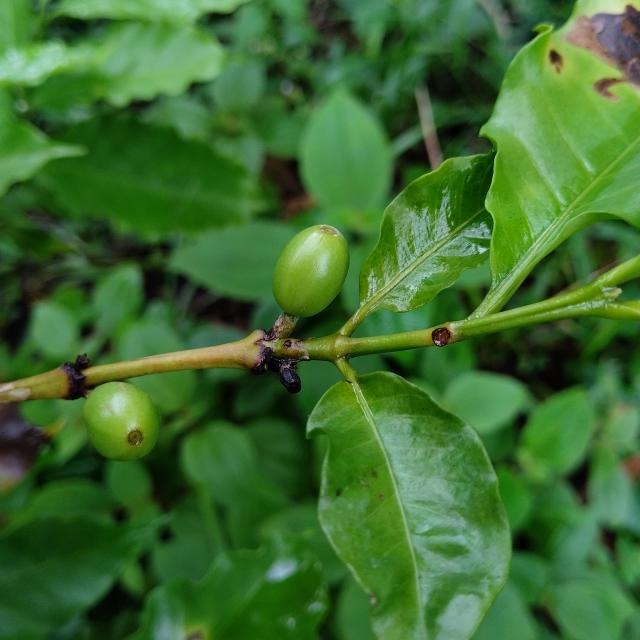green: (272, 225, 349, 317), (83, 382, 160, 462)
